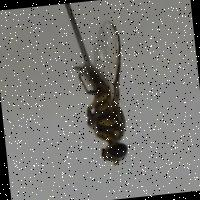Oriental-fruit-fly: (56, 15, 144, 176)
